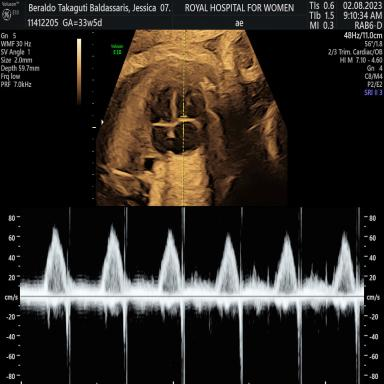Ultrasound-Waves: (28, 209, 358, 384)
